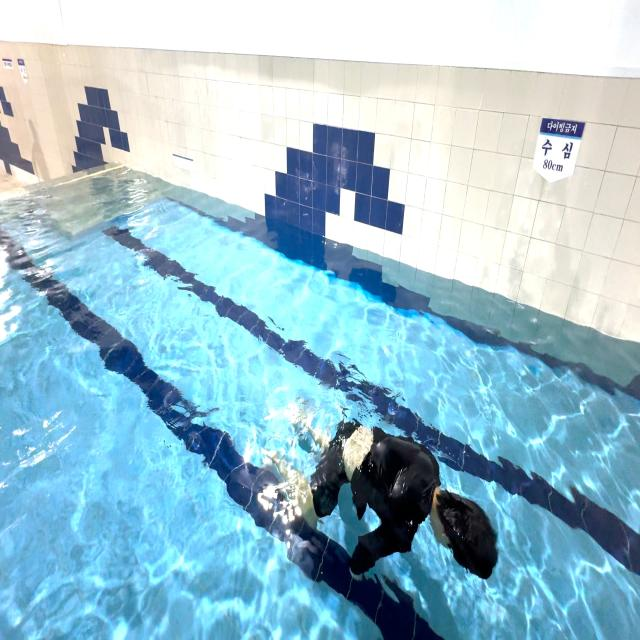Drowning: (255, 392, 506, 608)
